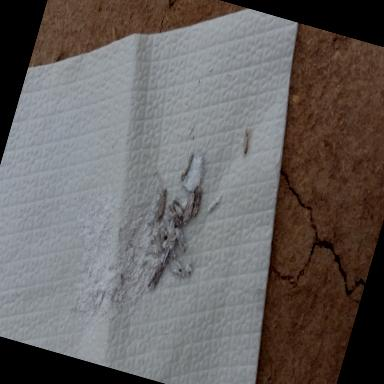pbw: (236, 120, 255, 162), (181, 185, 199, 226), (152, 188, 170, 224), (188, 184, 206, 220), (147, 258, 165, 290), (170, 227, 192, 253), (180, 150, 195, 182), (162, 210, 178, 239), (166, 259, 188, 280), (164, 204, 184, 227), (152, 226, 169, 253), (162, 240, 174, 268), (206, 194, 222, 214)
